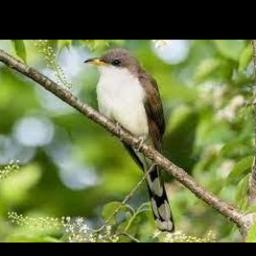Cuckoo: (85, 48, 176, 232)
